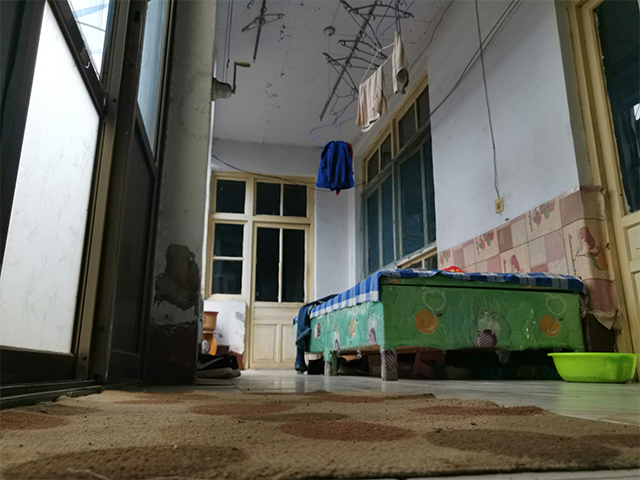bed: (291, 264, 588, 382)
carpet: (1, 391, 640, 480)
